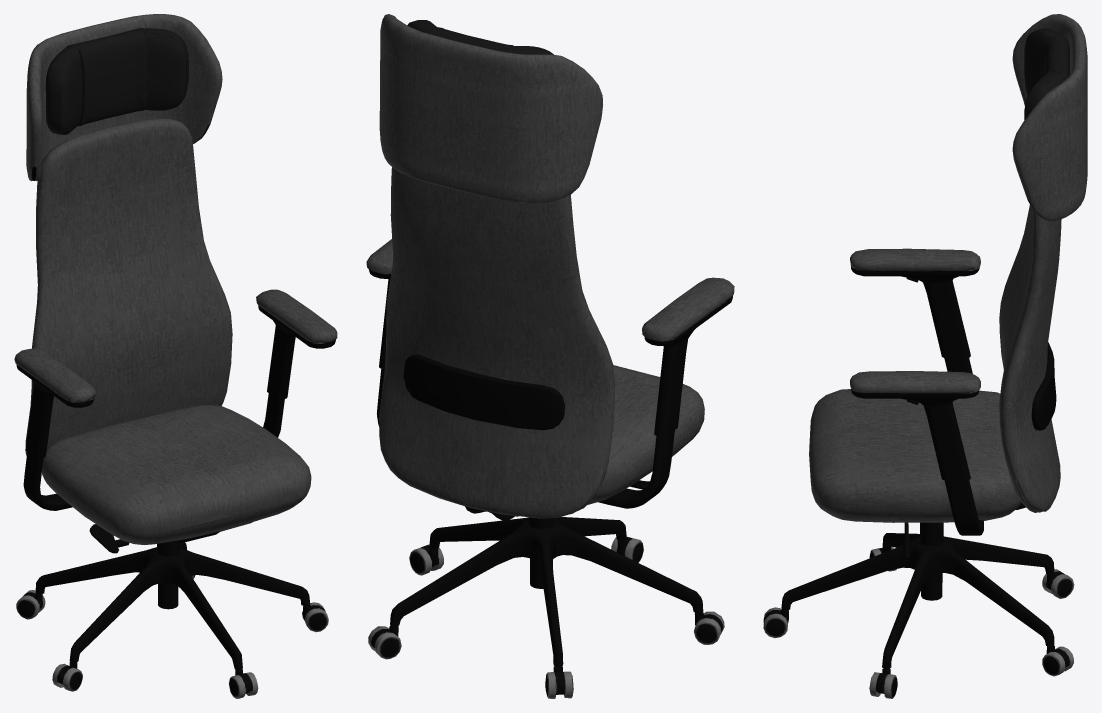
Rendered from gronfjall-office-chair-armheadrest-gray-black.glb.
3 views of the same model, side by side, from view 1: azimuth 30°, elevation 25°; view 2: azimuth 150°, elevation 25°; view 3: azimuth 270°, elevation 25° (orthographic). The views are drawn at different scales.
Parts seen in each view (by area): view 1: Mesh_0; view 2: Mesh_0; view 3: Mesh_0.
Part boxes in pixels (bbox=[...]): Mesh_0: bbox=[14, 14, 337, 698]; Mesh_0: bbox=[366, 14, 734, 698]; Mesh_0: bbox=[763, 14, 1087, 698].
Size of the model in its own units: 0.7123 by 1.41 by 0.7068.
1 material, 1 textured.
